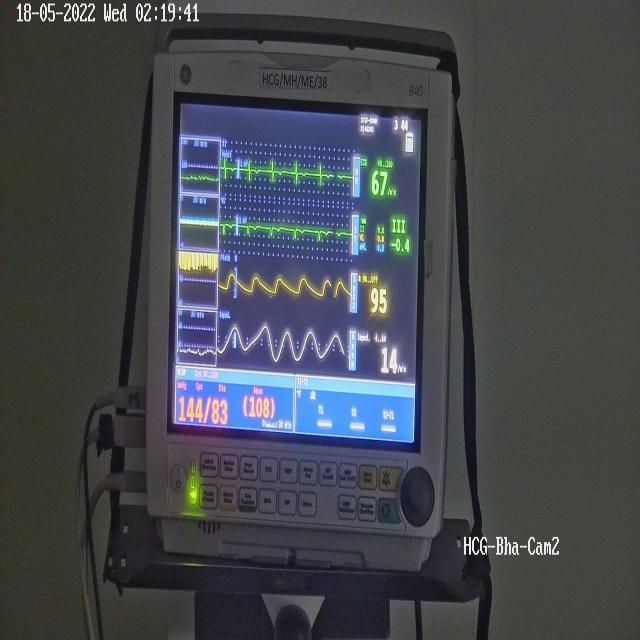Monitor: (104, 27, 482, 607)
